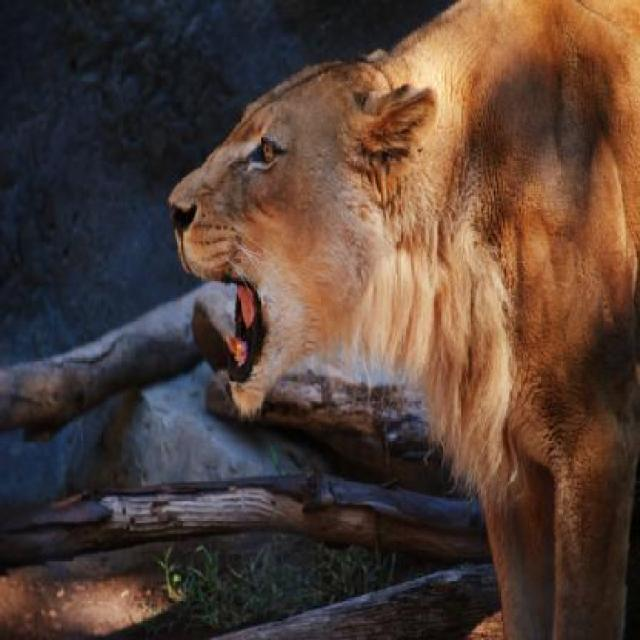Lion: (143, 7, 639, 638)
